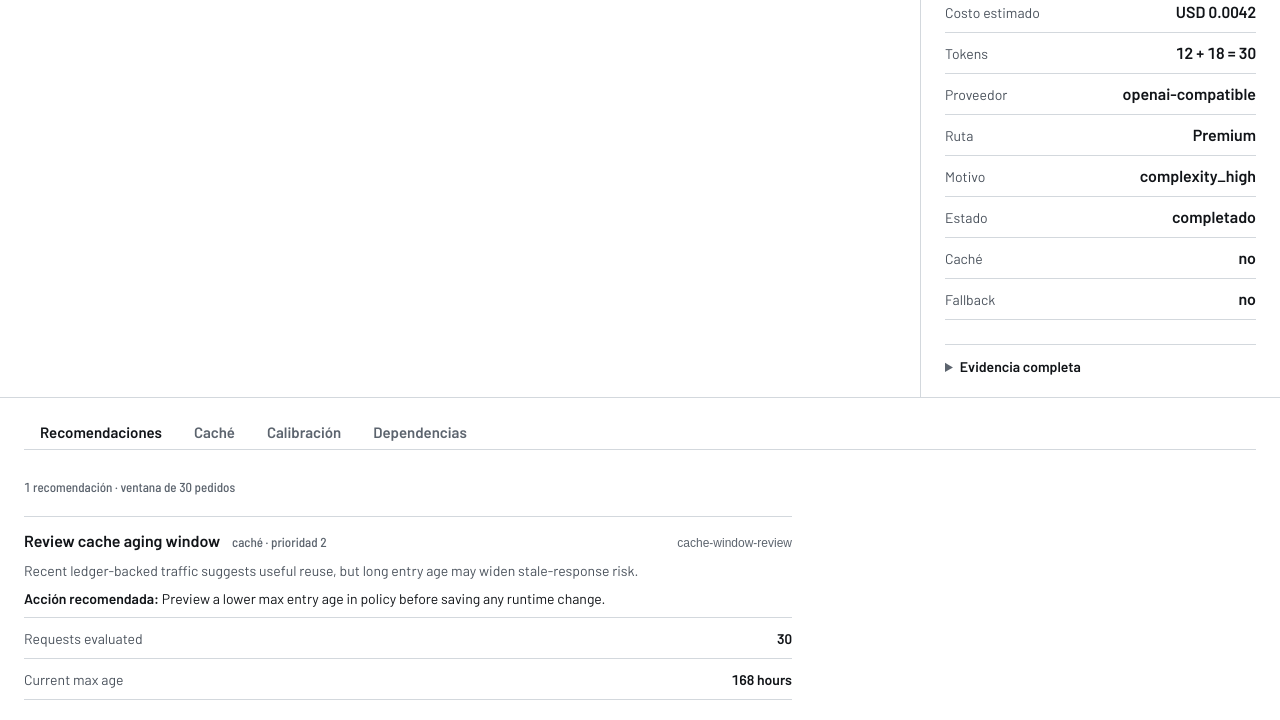
ObservabilityPage › keeps tenant context in tabs: recommendations, cache, calibration and dependencies
This screenshot has width=1280, height=720.
(page scrolled)
Expected: the tabs read "Recomendaciones", "Caché", "Calibración", "Dependencias", in this order, [24,418,178,450]; [178,418,251,450]; [251,418,357,450]; [357,418,483,450]
Expected: the heading "Review cache aging window" is shown, [24,529,220,553]
Click the tab "Caché" at (214, 433), box [178,413,251,453]
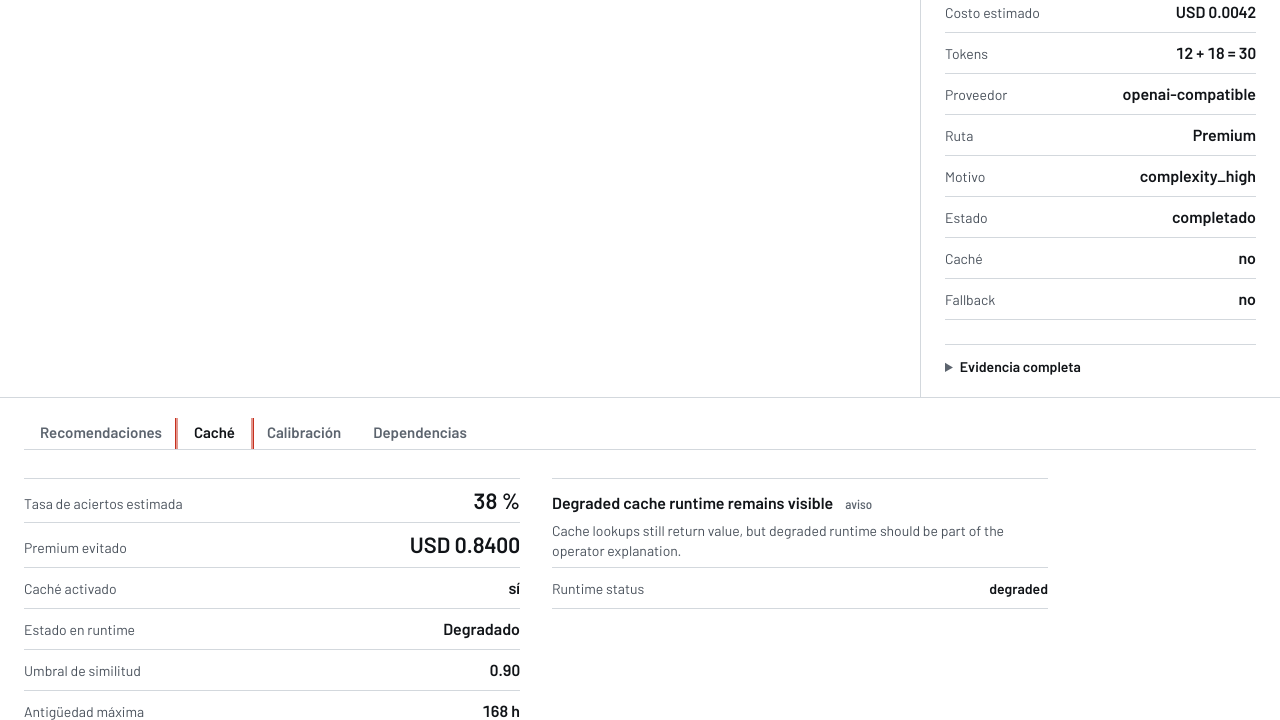
Expected: the element "Tasa de aciertos estimada" shows "38 %", [474,487,520,513]
Expected: the element "Premium evitado" shows "USD 0.8400", [410,531,520,557]
Expected: the heading "Degraded cache runtime remains visible" is shown, [552,491,833,515]
Click the tab "Calibración" at (304, 433), box [251,413,357,453]
(page scrolled)
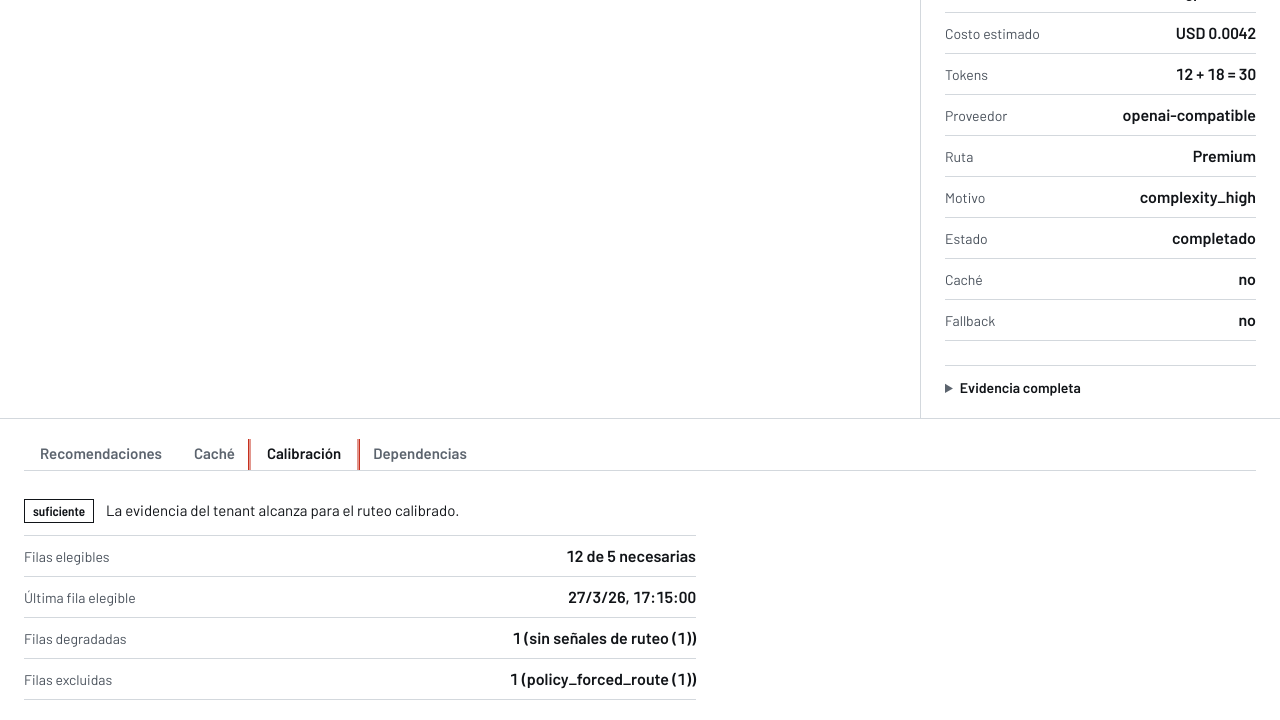
Expected: the text "suficiente" is shown, [24,499,94,523]
Click the tab "Dependencias" at (420, 454), box [357,434,483,474]
(page scrolled)
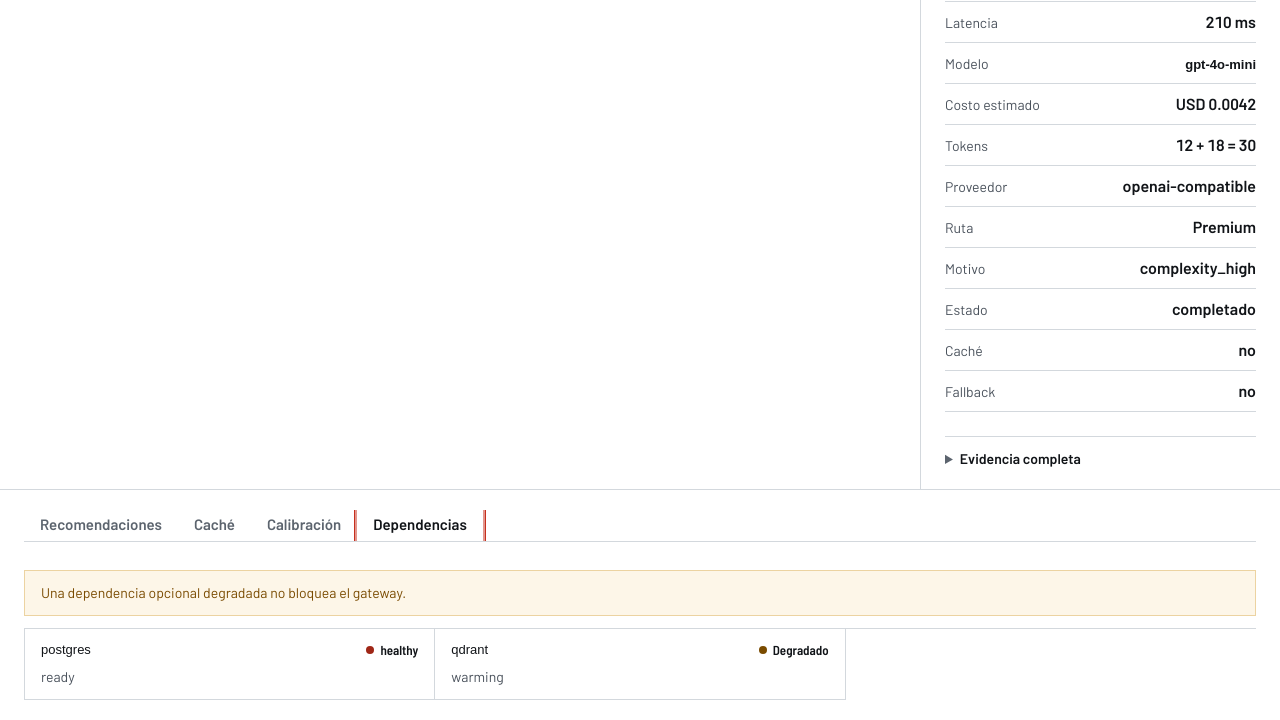
Expected: the heading "postgres" is shown, [41,641,91,659]
